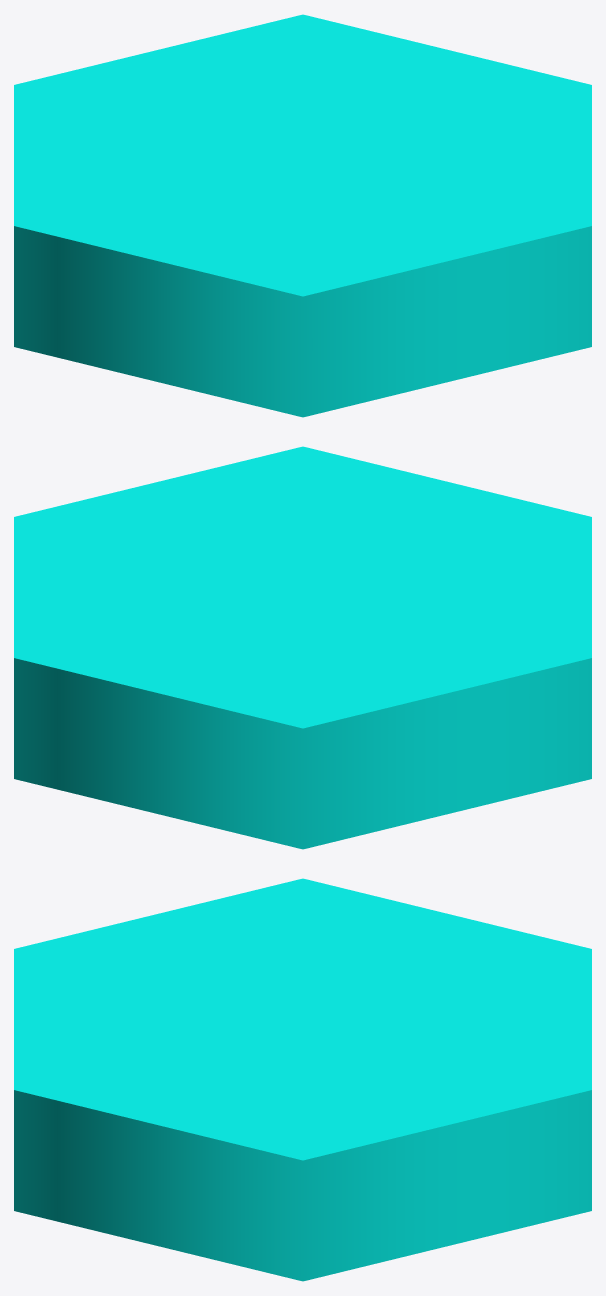
The model's file is Hexa_Floor(Simple).FBX.
The picture shows the model from 3 angles, top to bottom: view 1: azimuth 30°, elevation 25°; view 2: azimuth 150°, elevation 25°; view 3: azimuth 270°, elevation 25°; orthographic projection.
Parts seen in each view (by area): view 1: Hexa_Floor(simple); view 2: Hexa_Floor(simple); view 3: Hexa_Floor(simple).
Boxes of the visible parts, x1,y1,x2,y2 form: Hexa_Floor(simple): (14, 14, 591, 417); Hexa_Floor(simple): (14, 446, 591, 849); Hexa_Floor(simple): (14, 878, 591, 1281).
Size of the model in its own units: 250 by 50 by 217.
